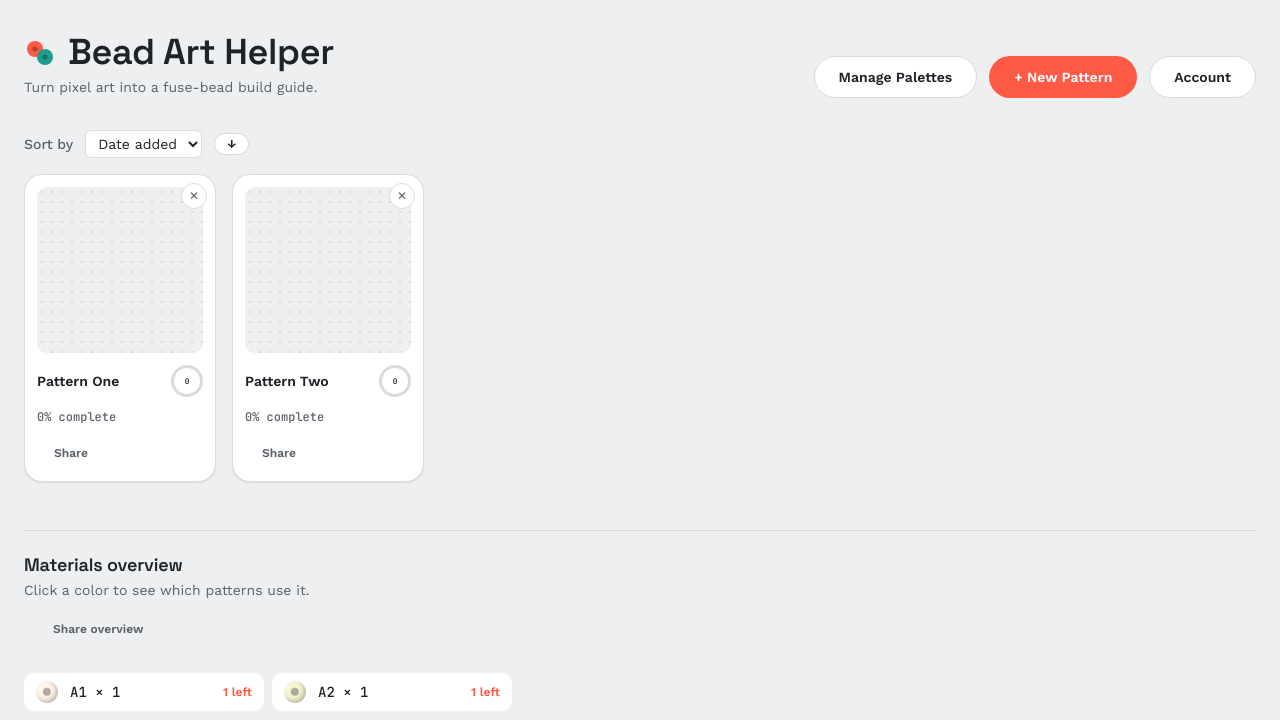
Test case: HomeScreen › shows all patterns again after clearing the material color filter
Expected: the text "Pattern One" is shown, left=37, top=373, right=119, bottom=389
Click the text "A1 × 1" at (95, 692), box left=70, top=683, right=120, bottom=701
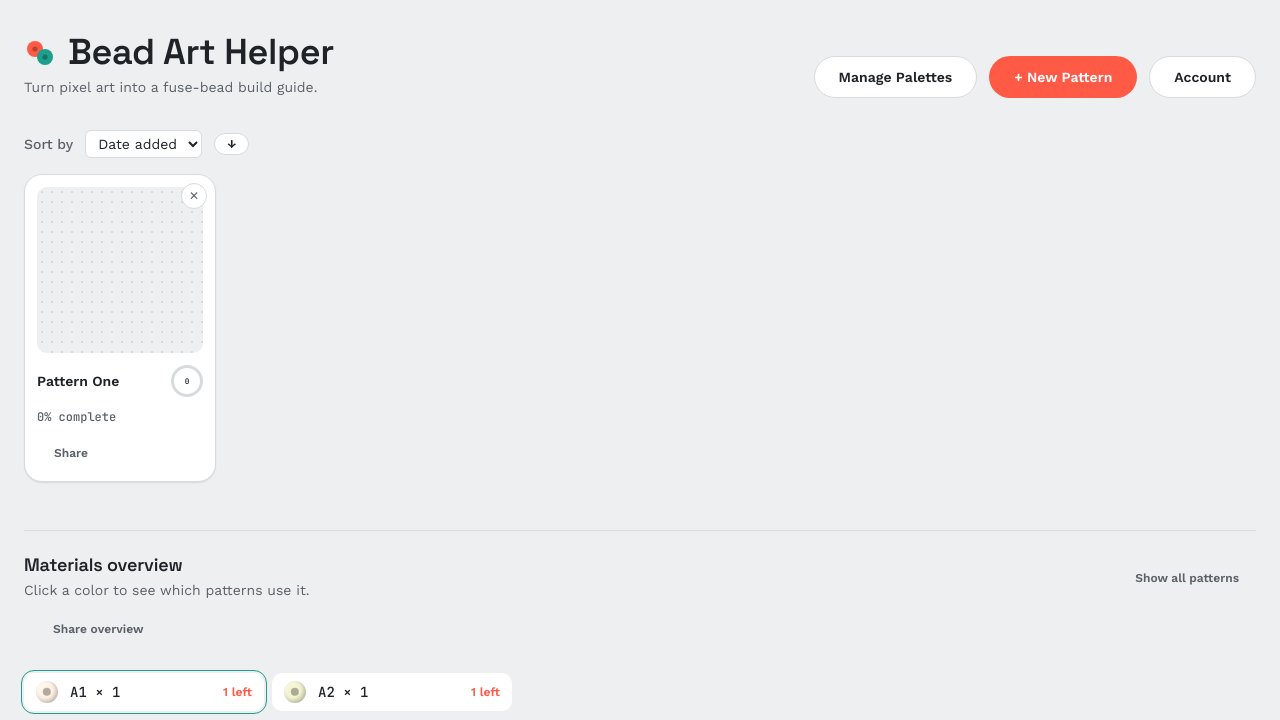
Expected: the button "Pattern Two" is gone
Click the button "Show all patterns" at (1187, 578), box left=1118, top=562, right=1256, bottom=594
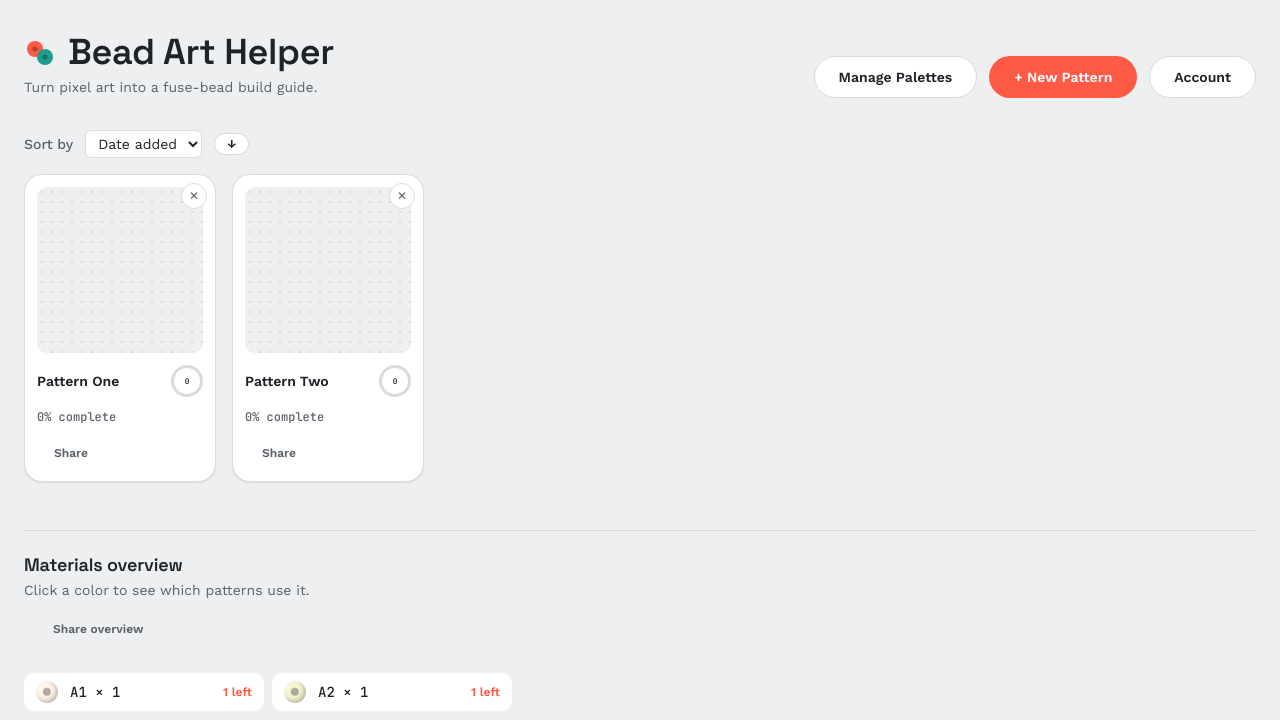
Expected: the text "Pattern One" is shown, left=37, top=373, right=119, bottom=389
Expected: the text "Pattern Two" is shown, left=245, top=373, right=329, bottom=389
